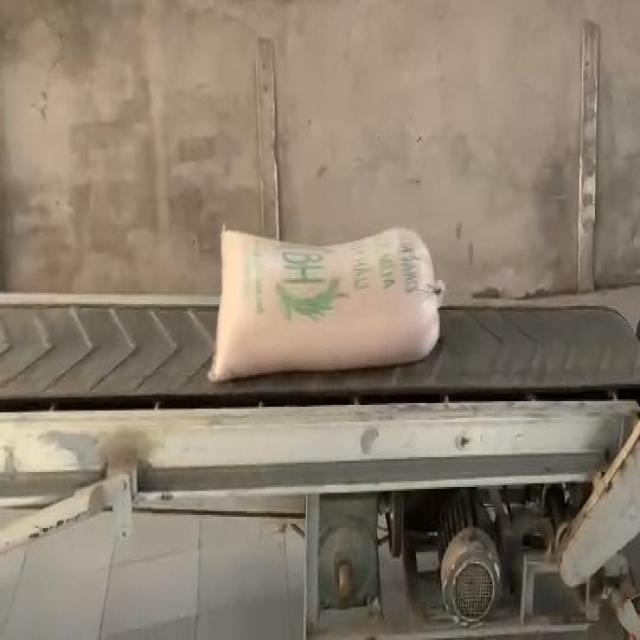gunny_bag: (210, 228, 440, 380)
